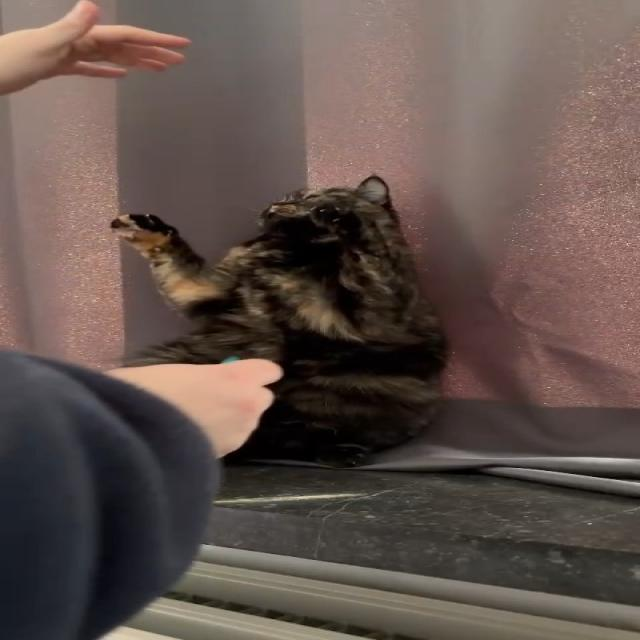authorized: (108, 174, 449, 468)
